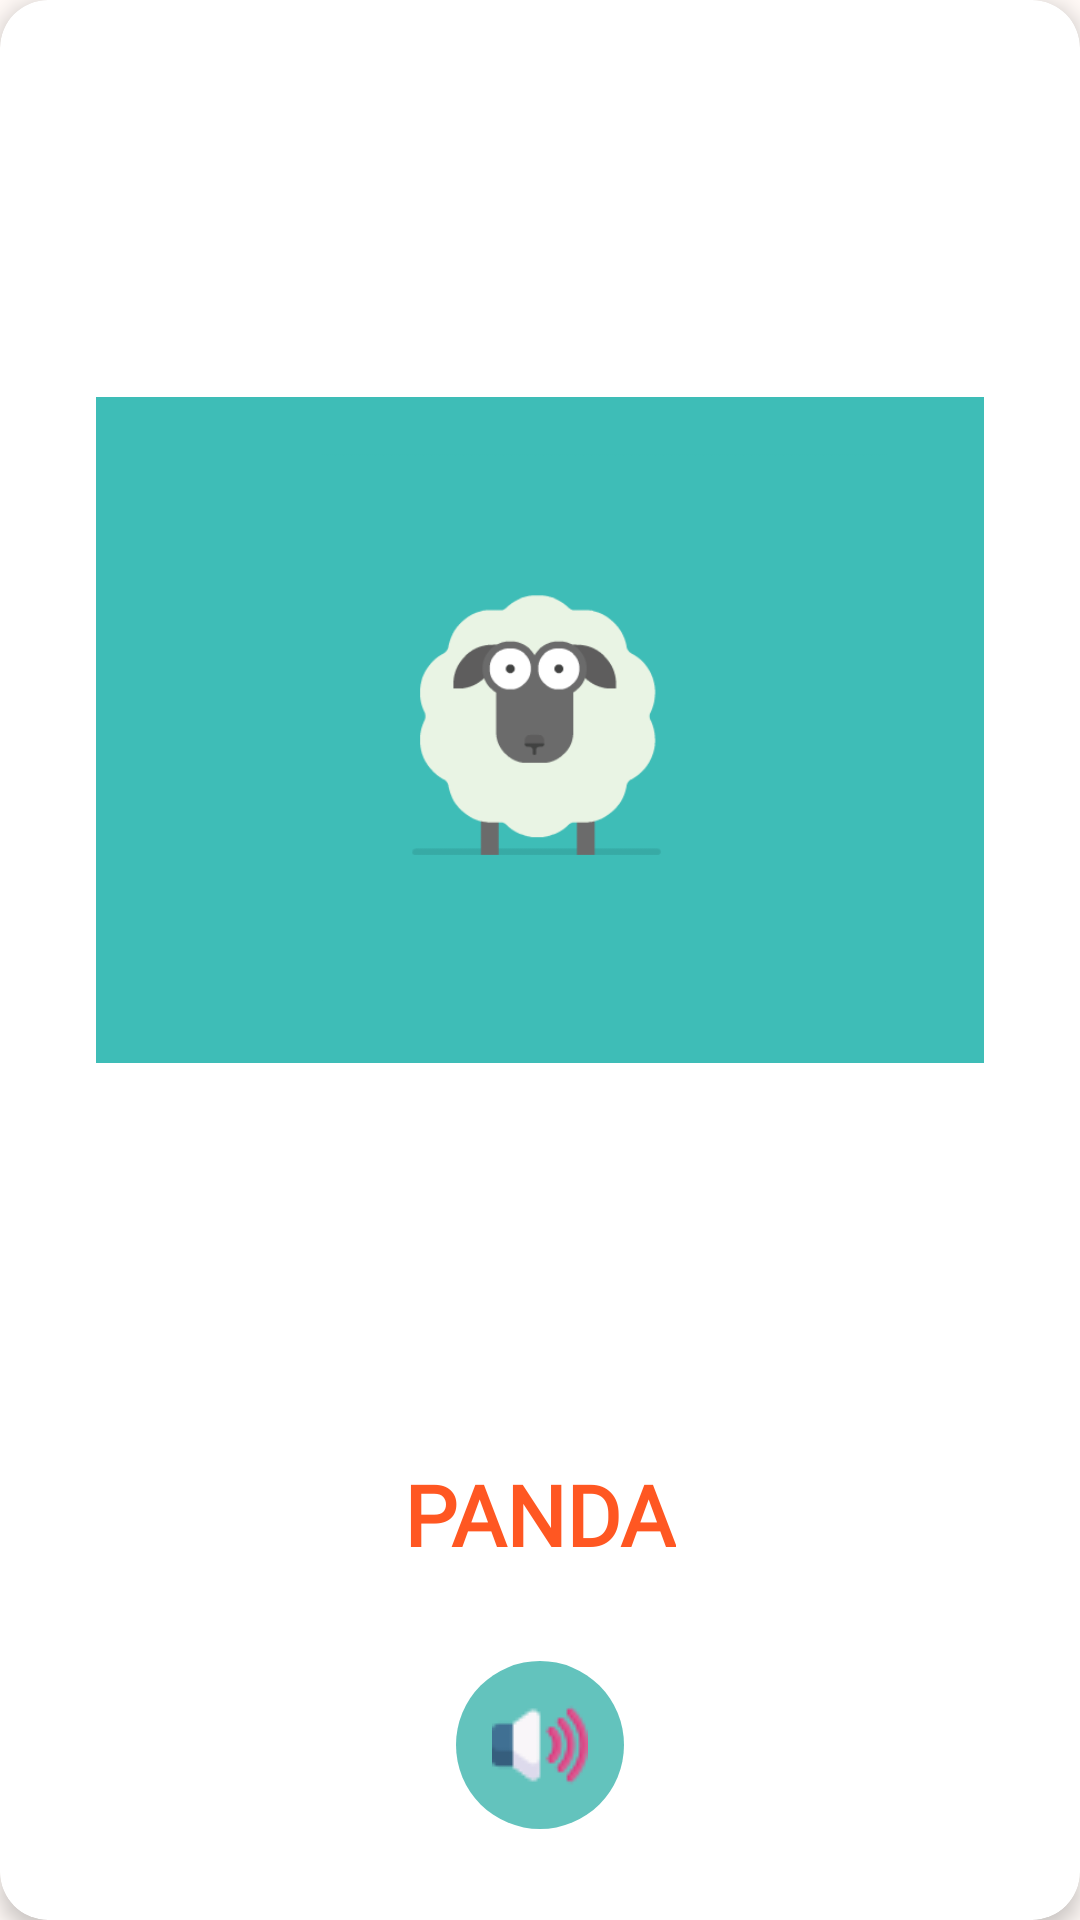

Screen size 1080px x 1920px. Icon name, then its box in pixels as (x1, y1, x2, y2):
sound: (456, 1661, 624, 1829)
